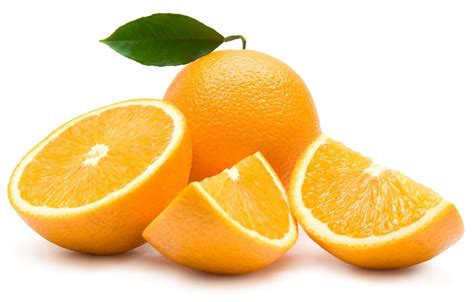orange: (160, 48, 325, 159)
